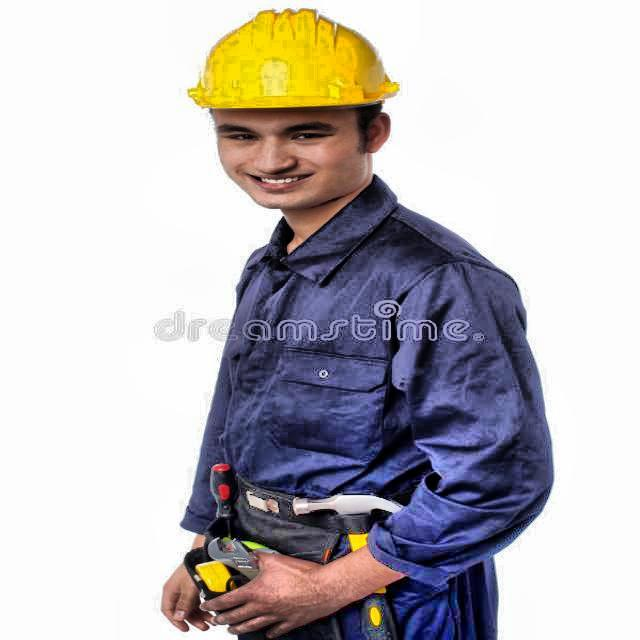person: (175, 3, 554, 640)
